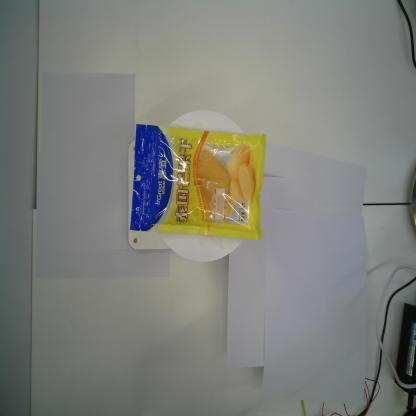Dried Fruit: (129, 123, 266, 245)
